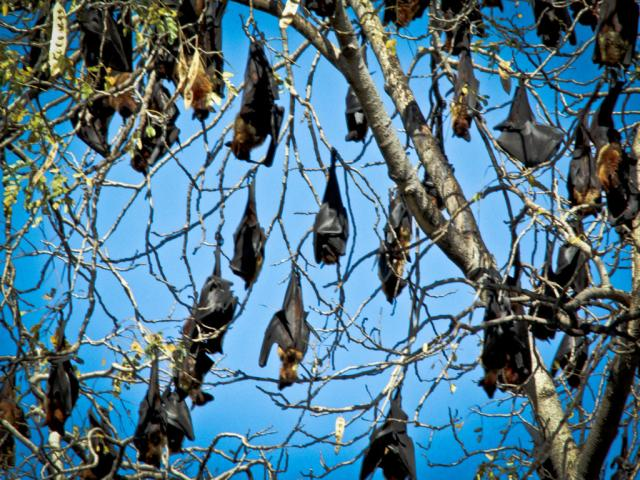Bird: (0, 0, 640, 480), (256, 258, 322, 394)
